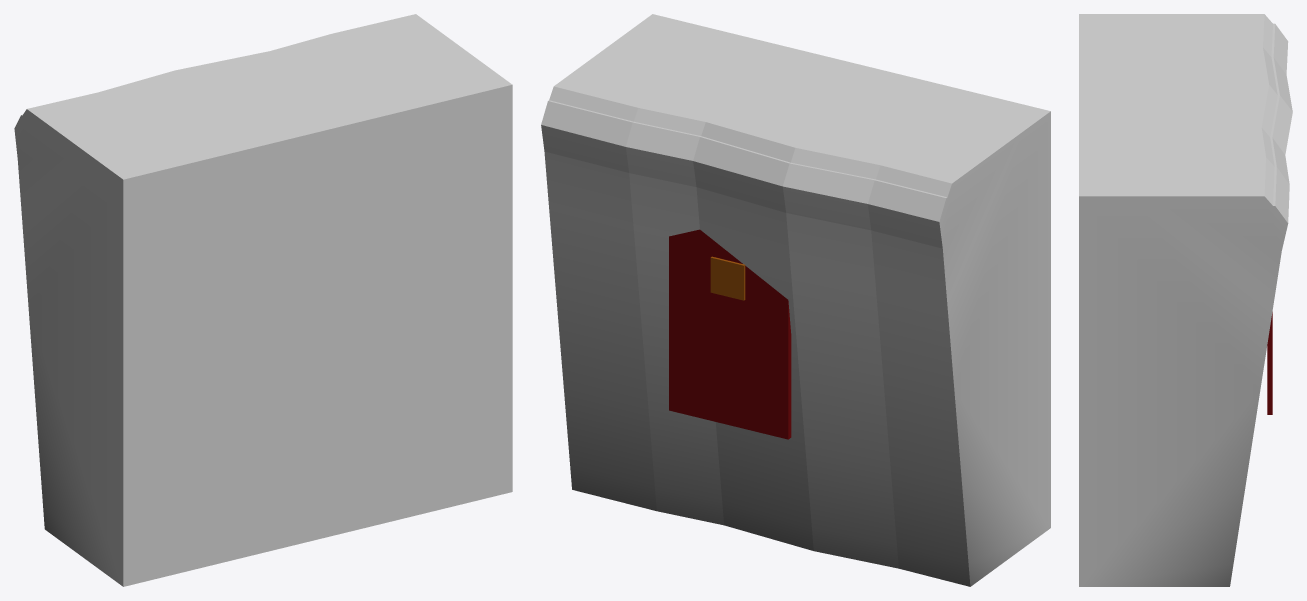
Rendered from HauntedCliff_Edge_V1.fbx.
3 views of the same model, side by side, from view 1: azimuth 30°, elevation 25°; view 2: azimuth 150°, elevation 25°; view 3: azimuth 270°, elevation 25° (orthographic). The views are drawn at different scales.
Visible parts, largest first — view 1: HauntedCliff_Edge_V1; view 2: HauntedCliff_Edge_V1; view 3: HauntedCliff_Edge_V1.
Boxes of the visible parts, x1,y1,x2,y2 form: HauntedCliff_Edge_V1: (14, 14, 512, 586); HauntedCliff_Edge_V1: (541, 14, 1050, 586); HauntedCliff_Edge_V1: (1079, 14, 1292, 586).
Bounding box in the file's own units: 1 × 1 × 0.4958.
